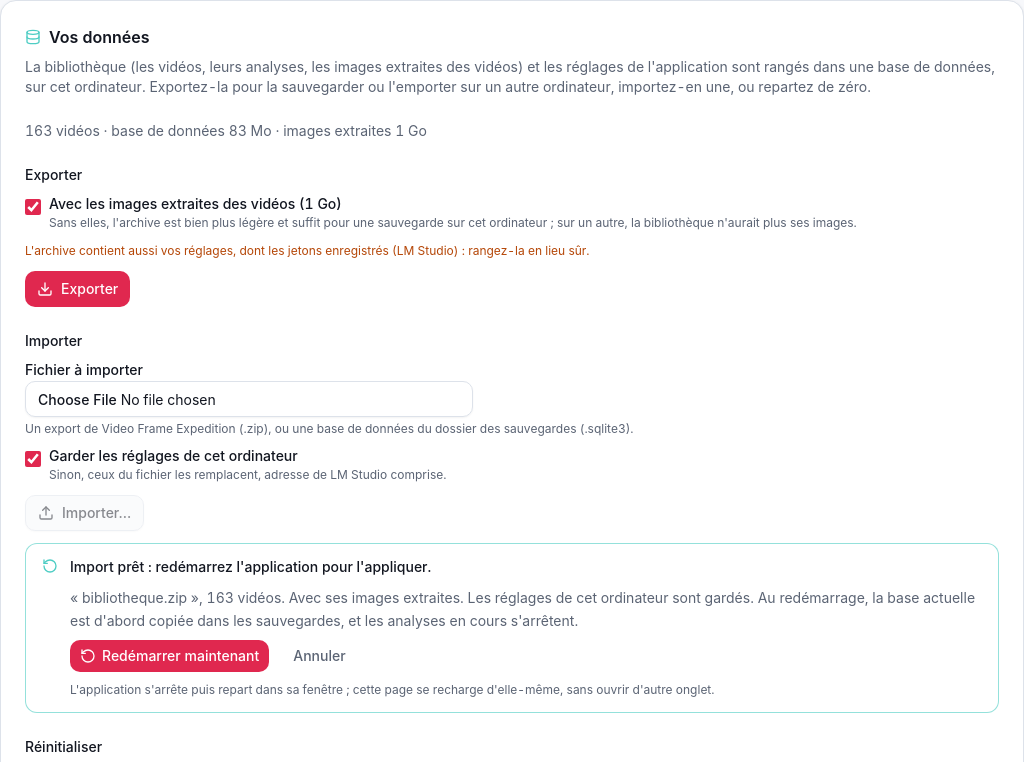
Scenario: DataCard › asks for a restart under the import, then reloads the page
Expected: the text "Import prêt : redémarrez l'application pour l'appliquer." is shown, [70,556,431,579]
Expected: the text "« bibliotheque.zip », 163 vidéos. Avec ses images extraites. Les réglages" is shown, [70,589,754,606]
Click the button "Annuler": (320, 656) [281,640,358,672]
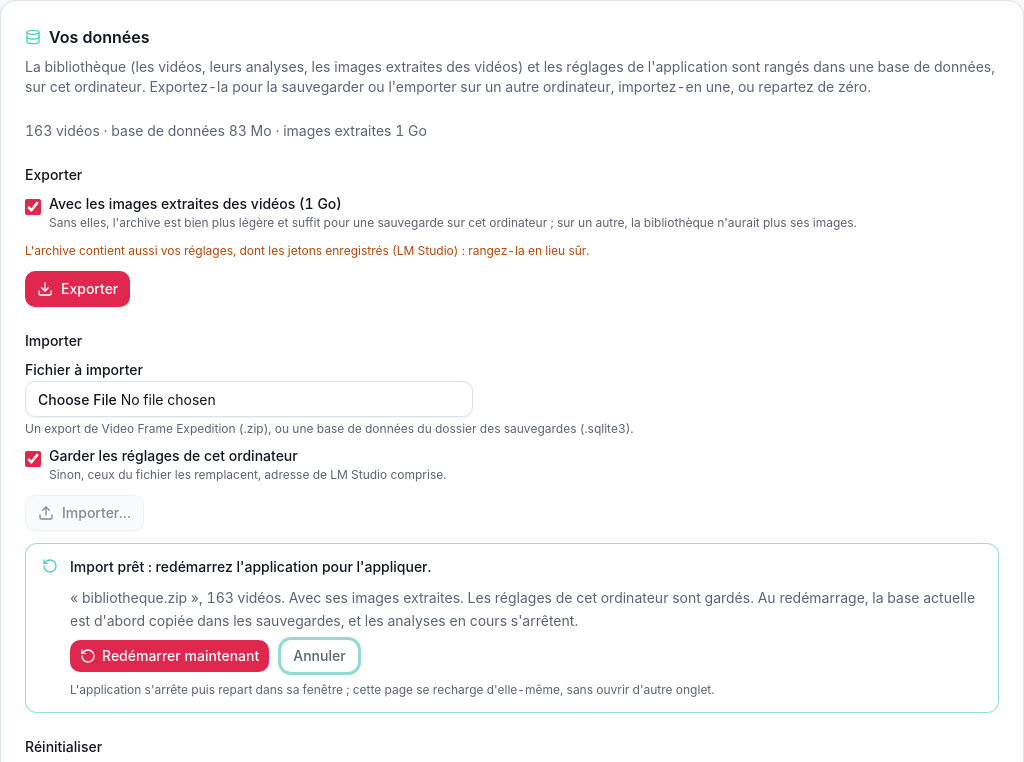
Click the button "Redémarrer maintenant": (170, 656) [70,640,269,672]
Wait 4500 ms
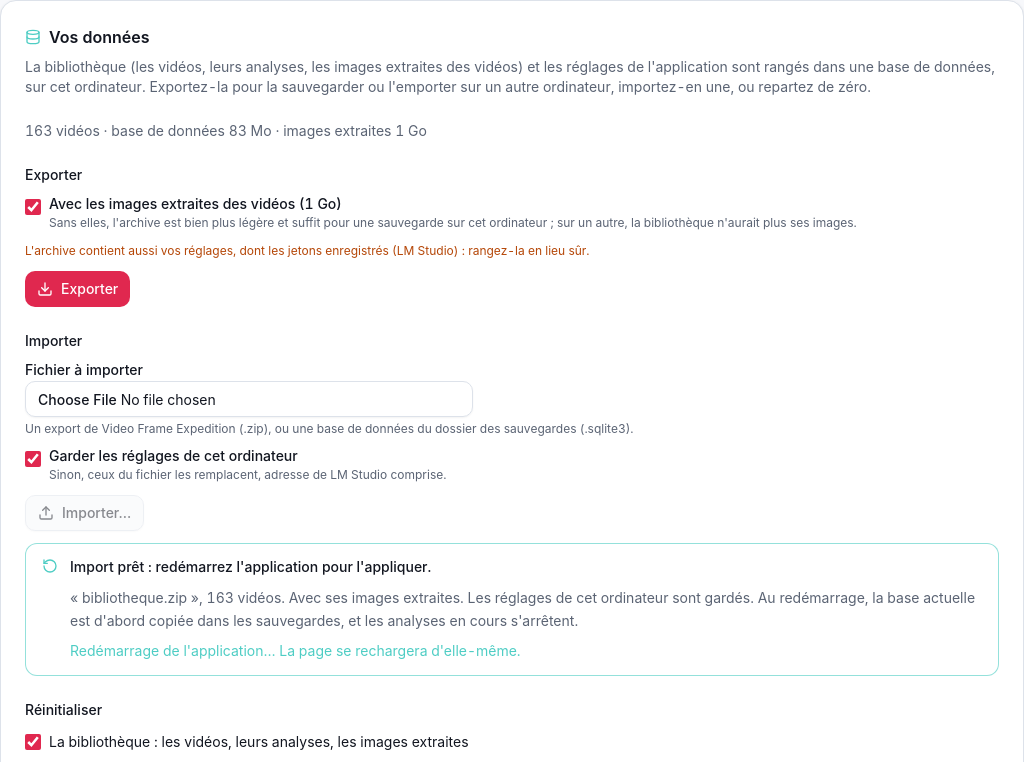
Expected: the text "Redémarrage de l'application… La page se rechargera d'elle-même." is shown, [70,640,521,663]
